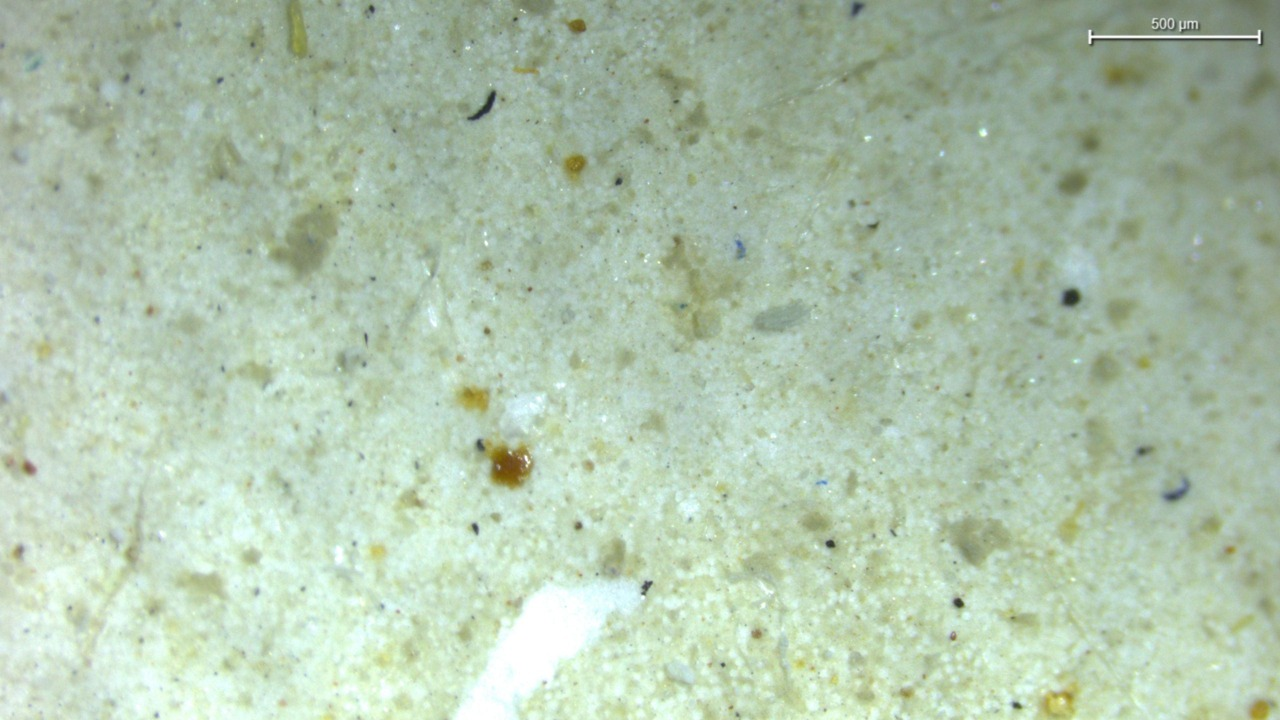microplastic_fragment: (942, 516, 1009, 566), (753, 302, 809, 331), (666, 660, 695, 684)
